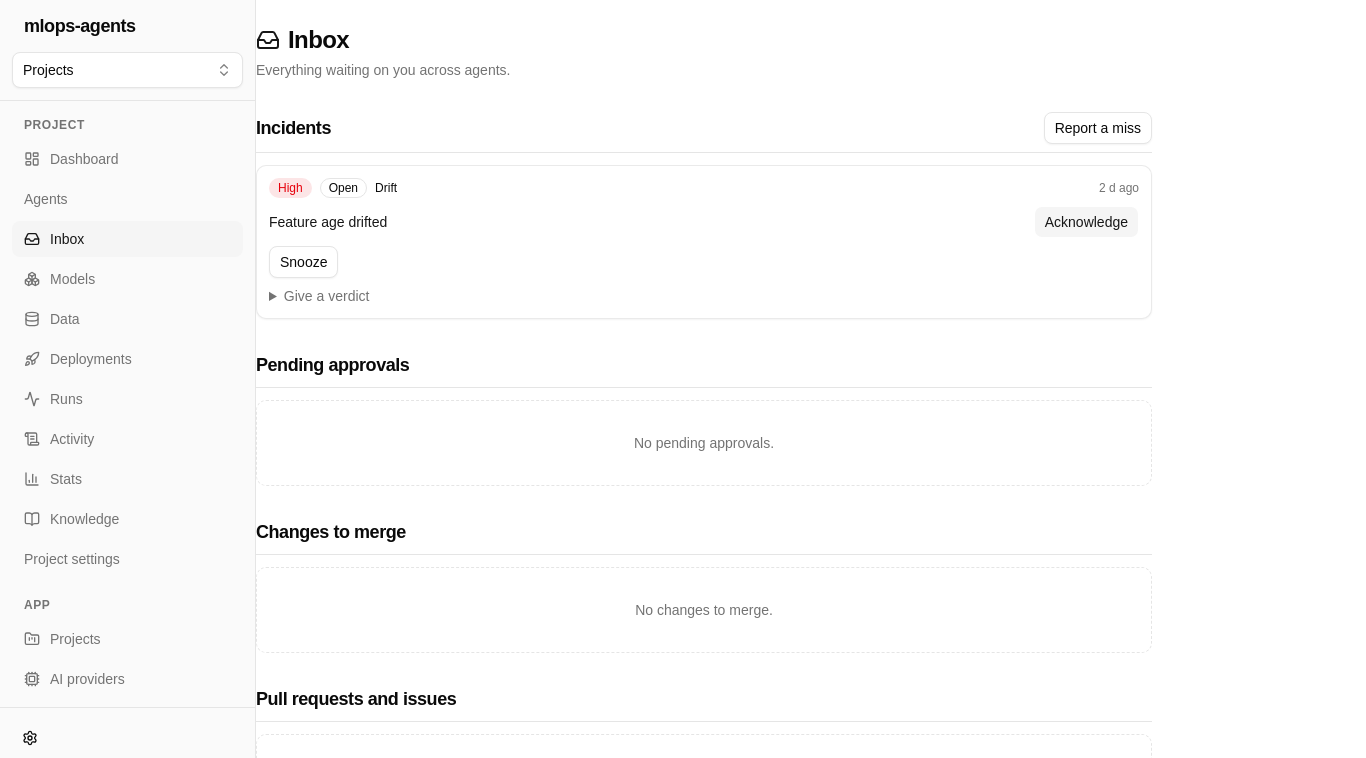
Test case: Inbox incidents section › acknowledges an incident: sends the request and the row stops offering it
Step 1. Click the button "Acknowledge" → click(1086, 222), box [1034,206,1139,238]
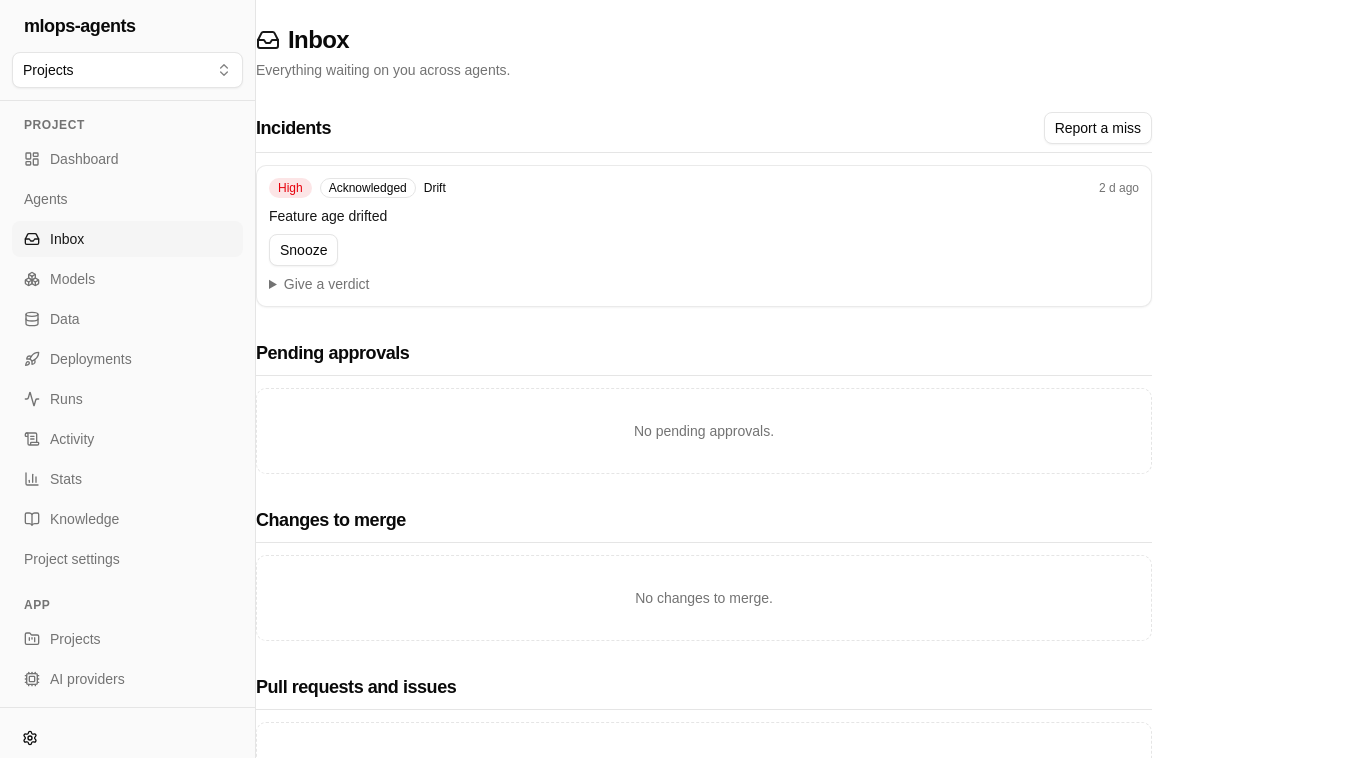
Check: the text "Acknowledged" is shown, box [320,178,416,198]
